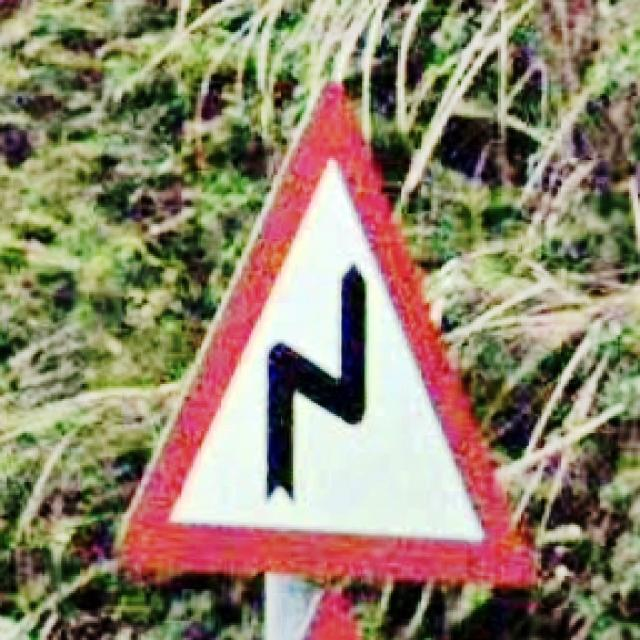doublebendright: (118, 81, 536, 589)
